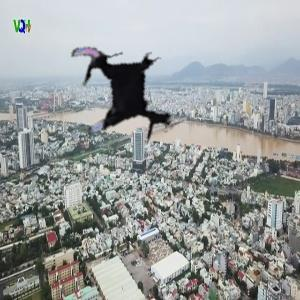drone: (53, 29, 187, 163)
